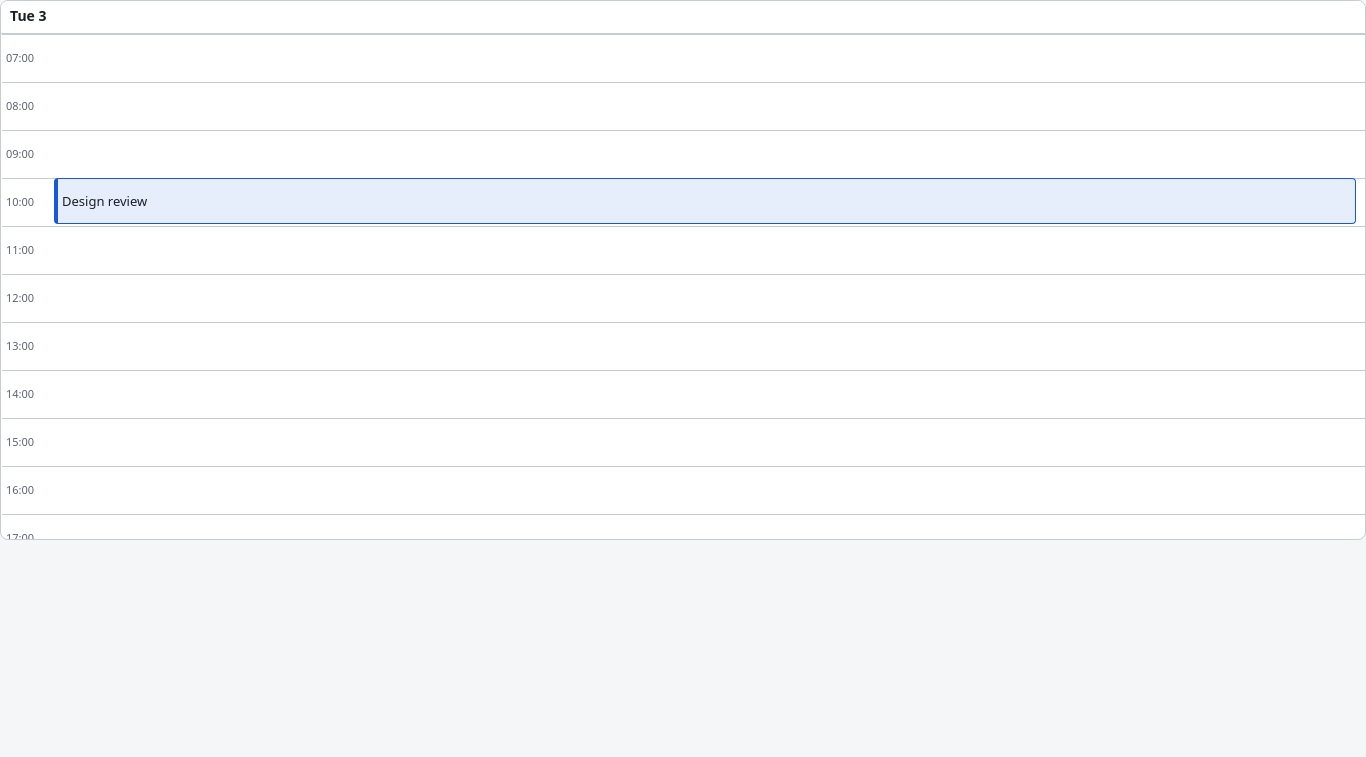
Test: Calendar: changing and deleting an event › brings the event back when the delete fails
(page scrolled)
Click the button with aria-label "Design review,": click(105, 201) [54,178,1356,224]
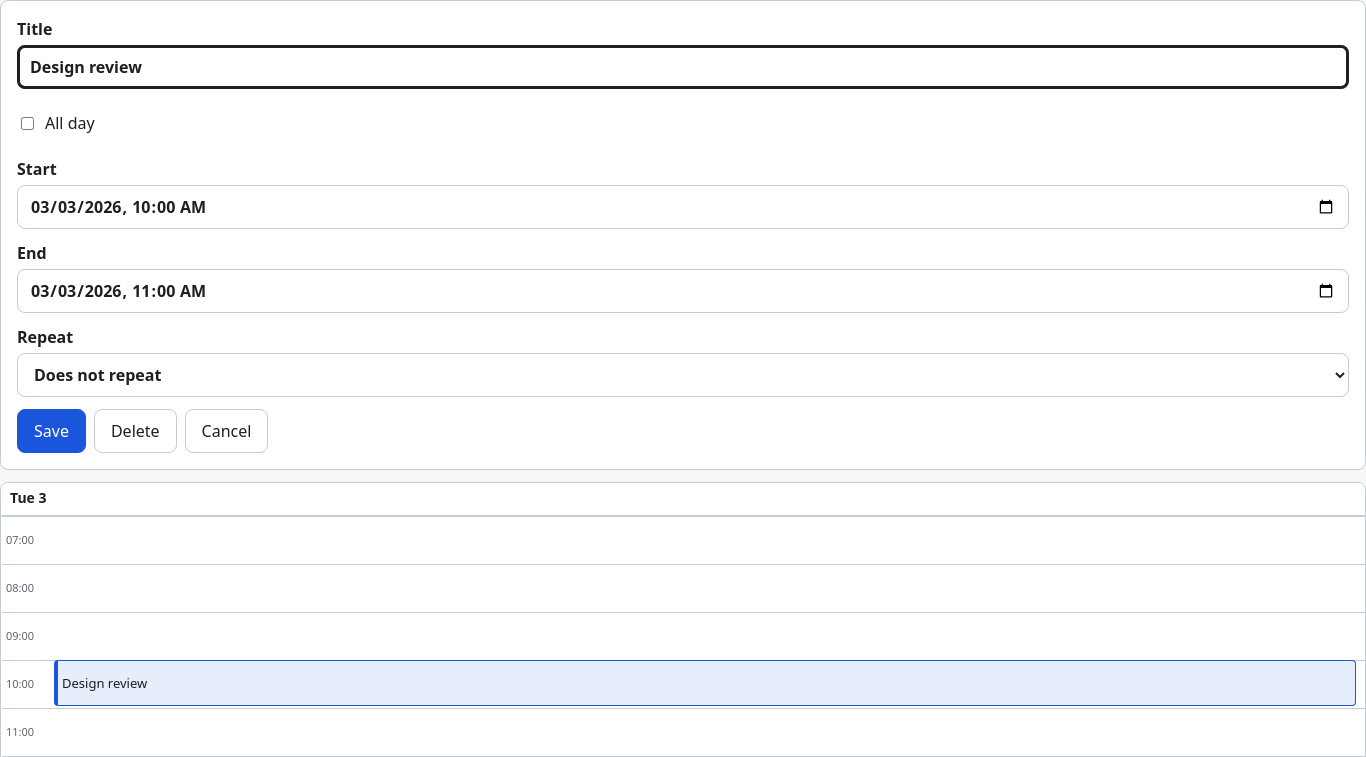
Click the button "Delete": click(135, 431) [94,409,177,453]
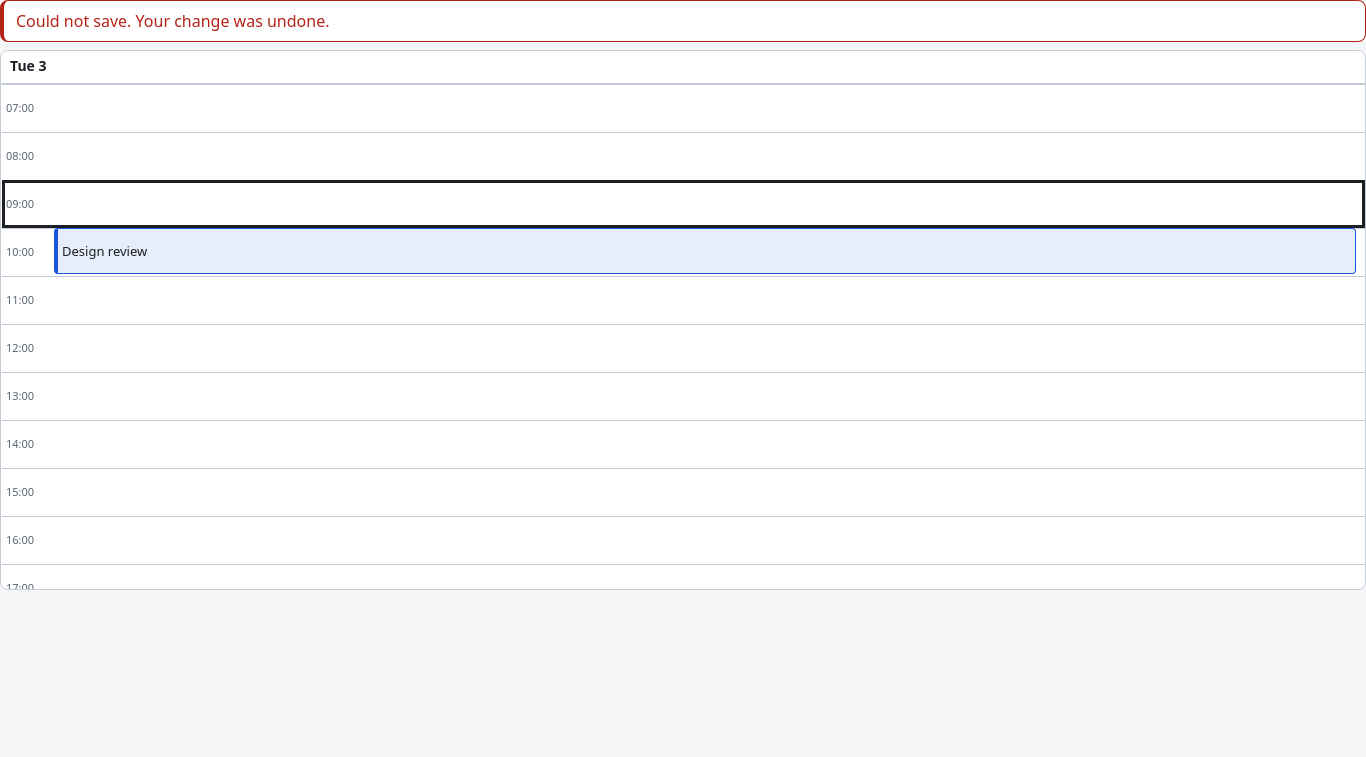
Expected: the button with aria-label "Design review," is shown, [54,228,1356,274]
Now the message "Could not save. Your change was undone." is shown, box [0,0,1365,42]
